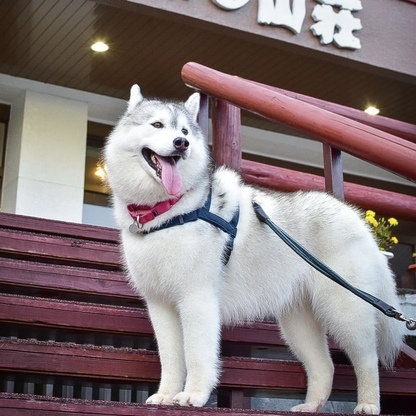husky: (98, 80, 406, 416)
